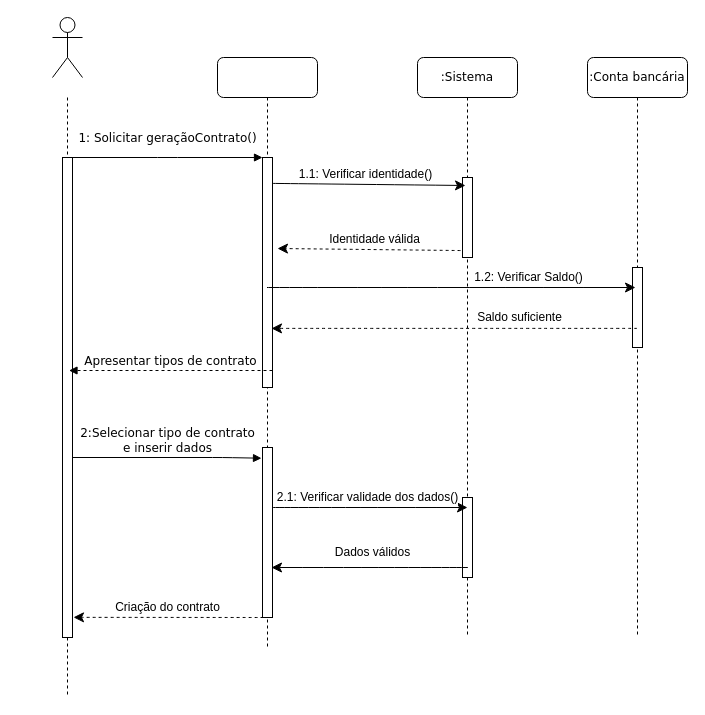
Some shapes in this 705 by 715 pixel diagram are drawn without their labels. Here are the shapes that lost their labels. From the top down, the box of each, then its label:
(52, 16, 82, 78): :Usuário
(216, 56, 318, 648): :Interface
